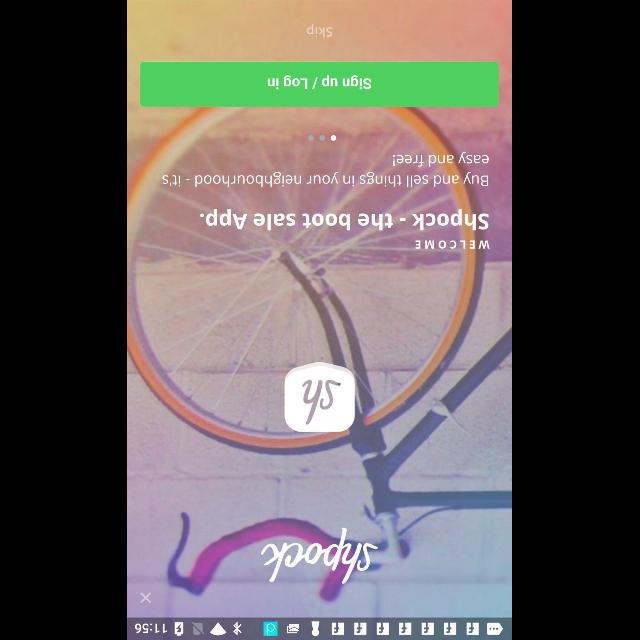backgroundimage: (129, 0, 513, 618)
icon: (141, 592, 153, 604)
image: (261, 526, 379, 584), (284, 360, 356, 432)
pageindicator: (309, 134, 337, 142)
text: (198, 208, 490, 230), (162, 173, 488, 187), (392, 152, 490, 166), (416, 240, 492, 250), (307, 24, 333, 38)
textbutton: (141, 62, 499, 106)
uppertaskbar: (128, 617, 512, 639)
